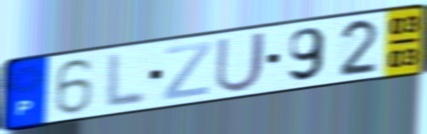2: (337, 16, 381, 81)
6: (51, 56, 97, 117)
9: (287, 26, 327, 83)
L: (102, 50, 148, 111)
U: (213, 29, 270, 95)
Z: (161, 39, 214, 102)
